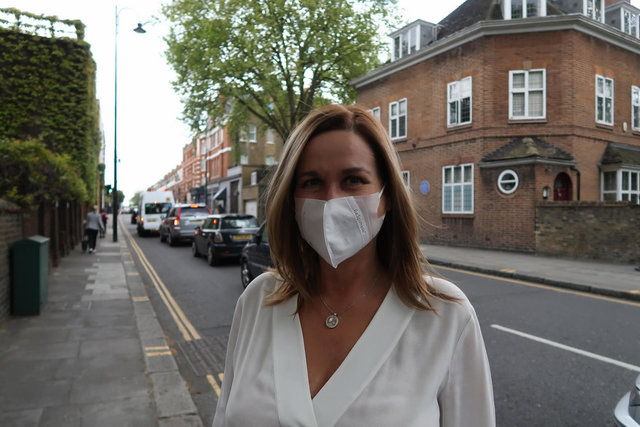mask: (287, 200, 385, 270)
